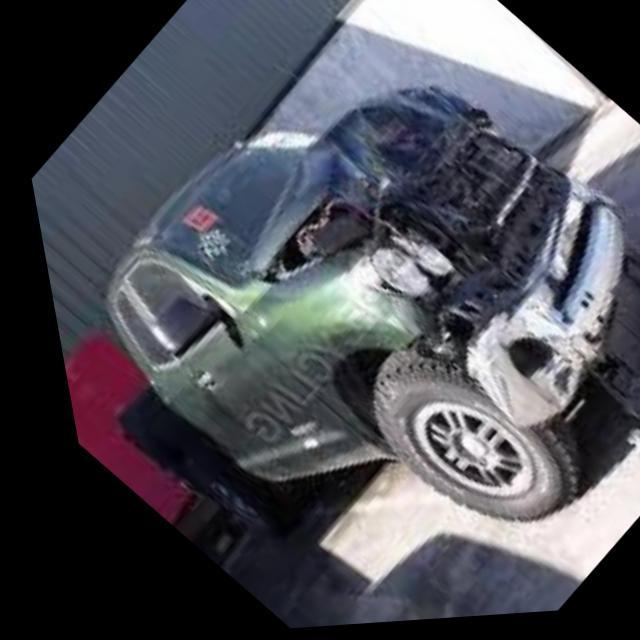crash: (244, 86, 640, 449)
